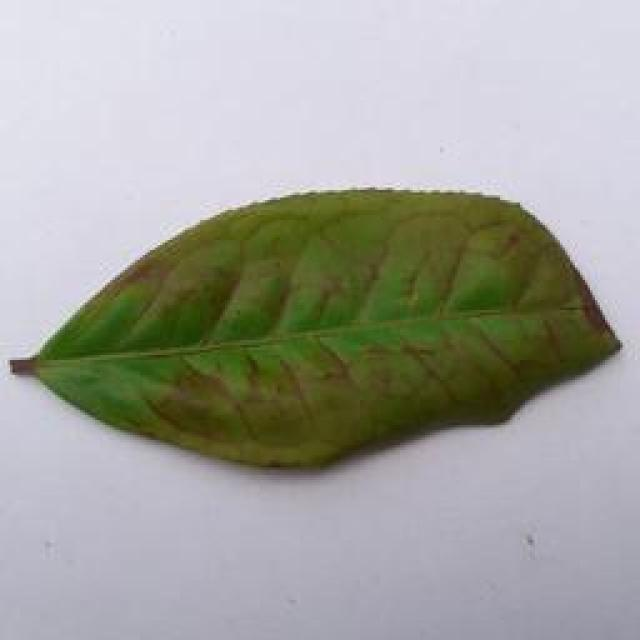Red Leaf Spot: (10, 183, 634, 474)
